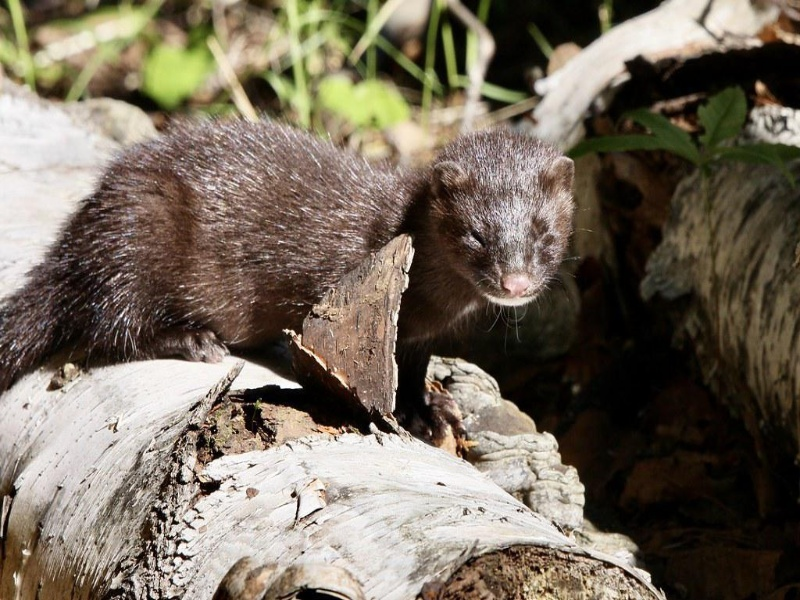minkish: (1, 115, 581, 393)
